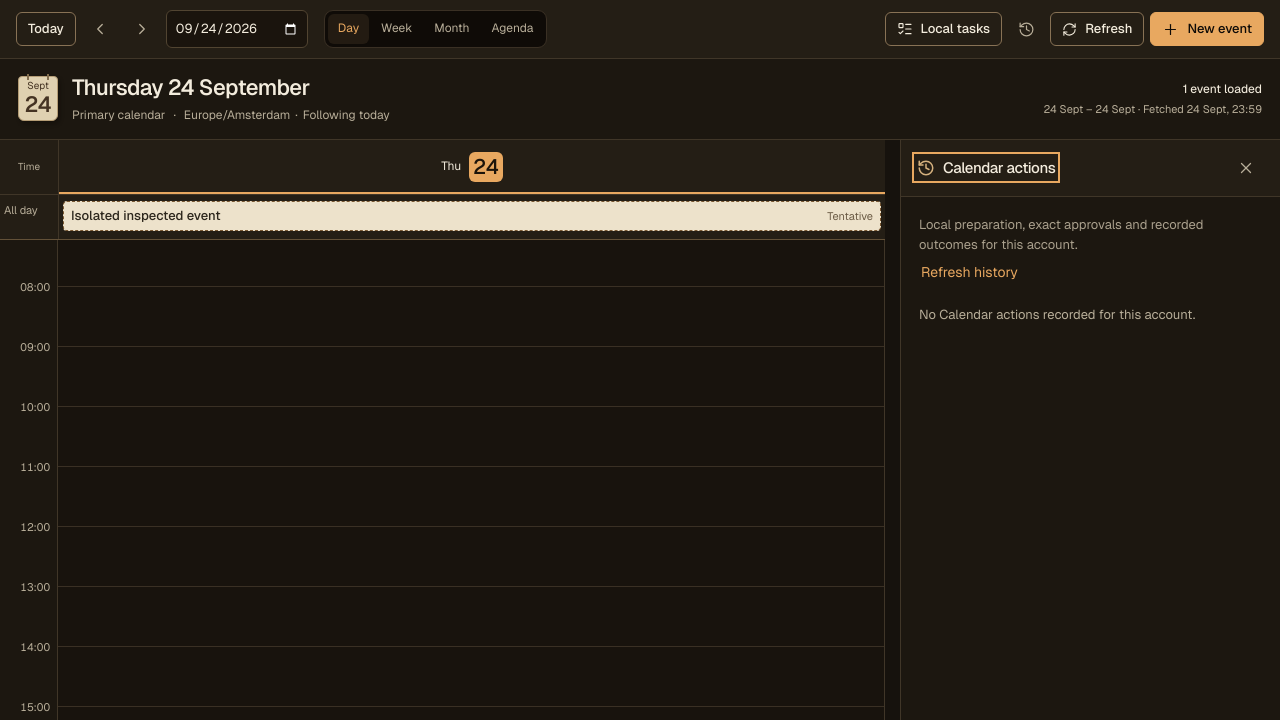
preserves an inspected event snapshot and its original source timestamp across a followed day change
The width and height of the screenshot is (1280, 720).
(page scrolled)
Click the button "Isolated inspected event Tentative" at {"x": 146, "y": 215}, box 63,201 -> 881,231
Wait 1000 ms
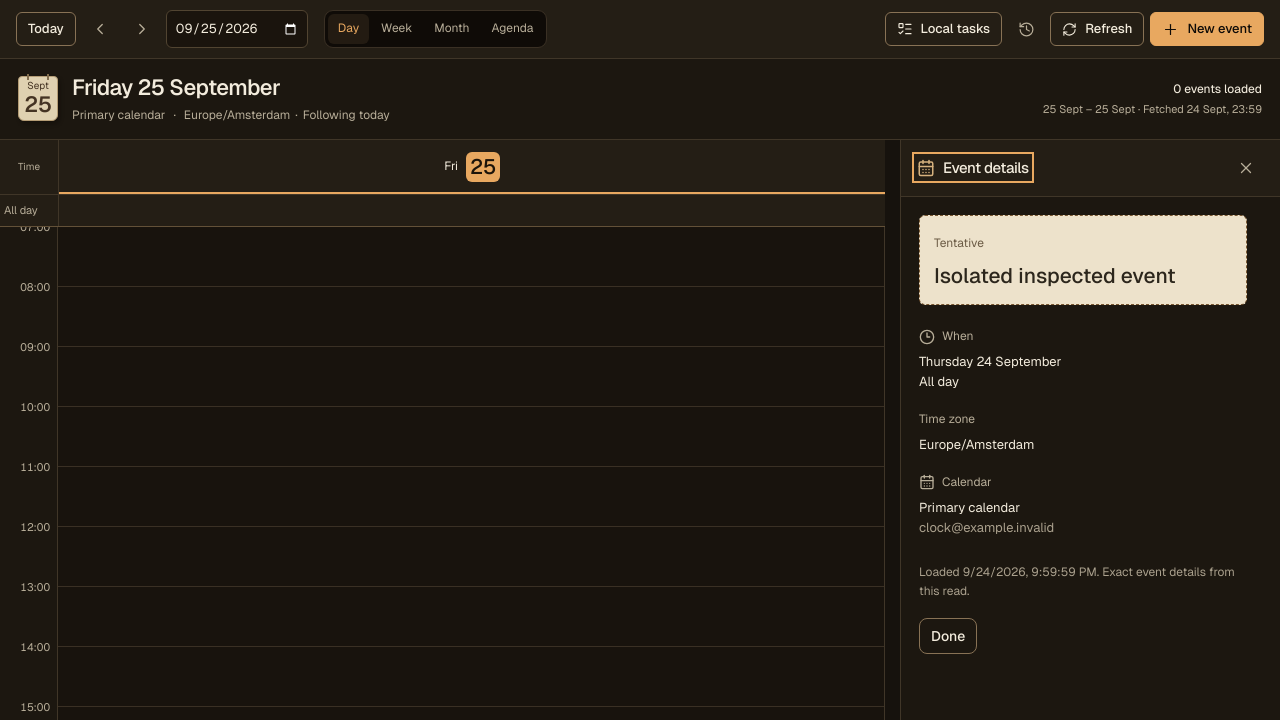
Result: the element showing "Tentative Isolated inspected event" is shown at 919,215 -> 1247,305
